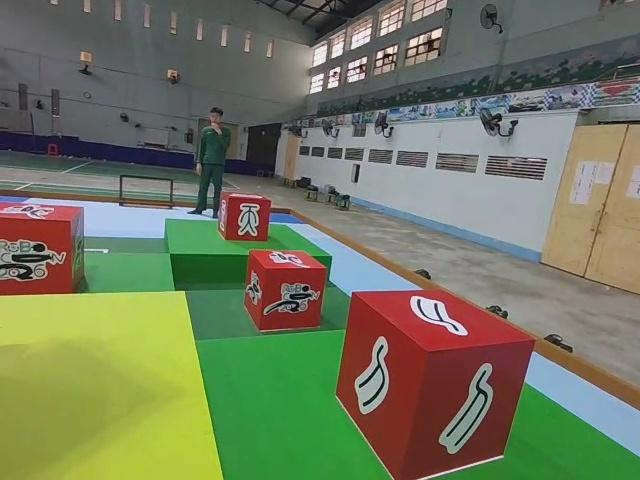R1: (0, 200, 85, 295), (244, 248, 329, 331)
R2 Fake: (216, 190, 272, 244)
R2 Real: (334, 285, 534, 479)
